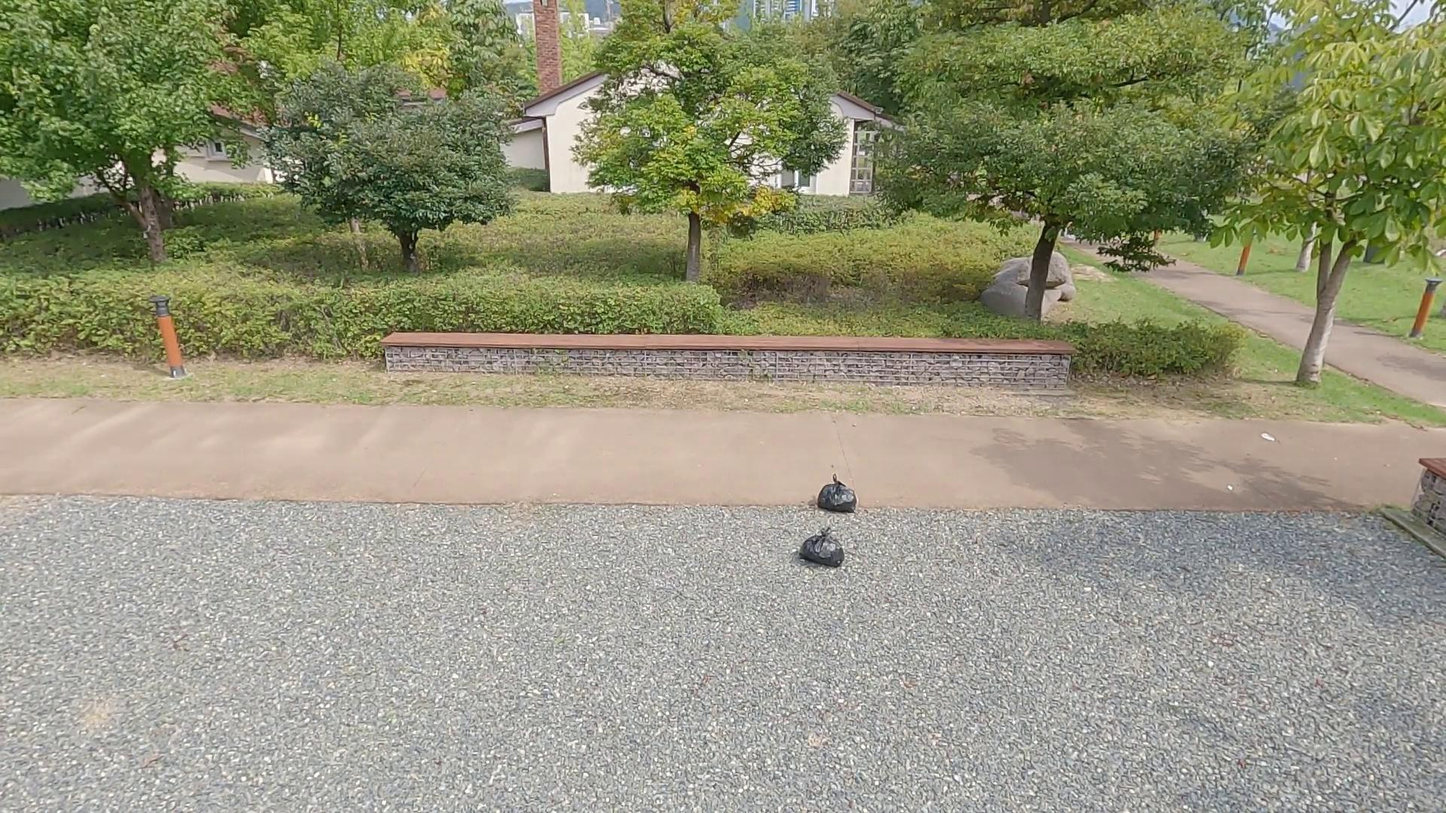trash: (801, 526, 844, 569), (818, 475, 857, 512)
